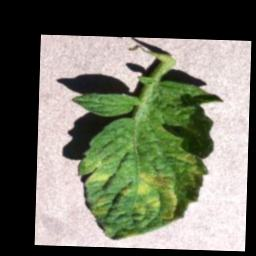Leaf_Mold: (75, 139, 209, 242)
